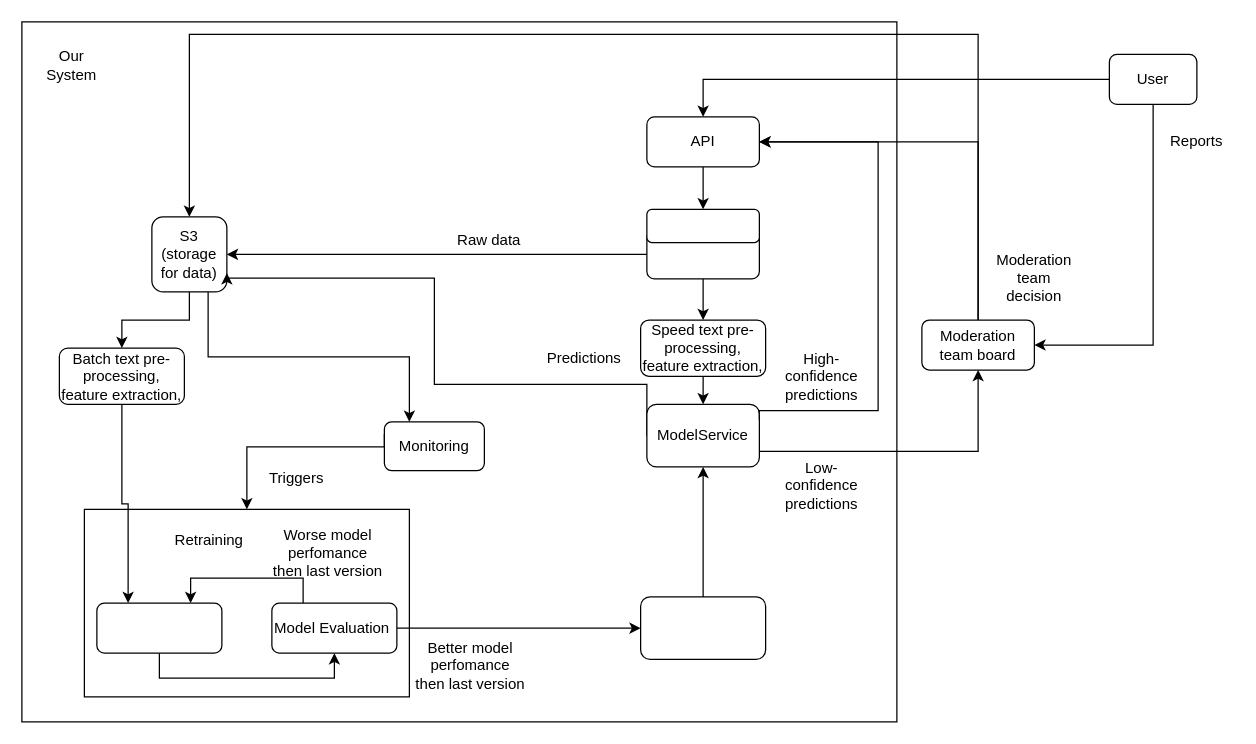
The diagram is 1256 pixels wide and 744 high, and some of its shapes have lost their labels. Here are the shapes that lost their labels. From the top down, the box of each, then its label:
(646, 208, 759, 242): Data quality control
(646, 229, 759, 279): Service
(96, 602, 222, 653): Model Retraining
(639, 596, 766, 659): MLflow Model Registry
